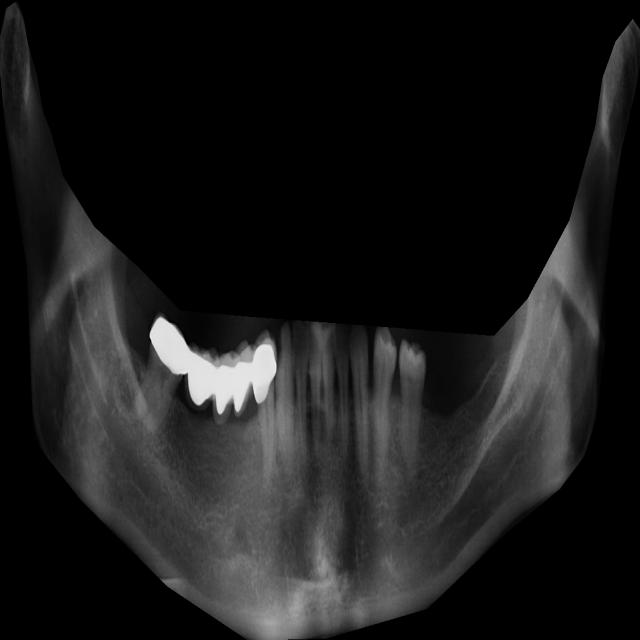mandibula: (0, 0, 640, 640)
